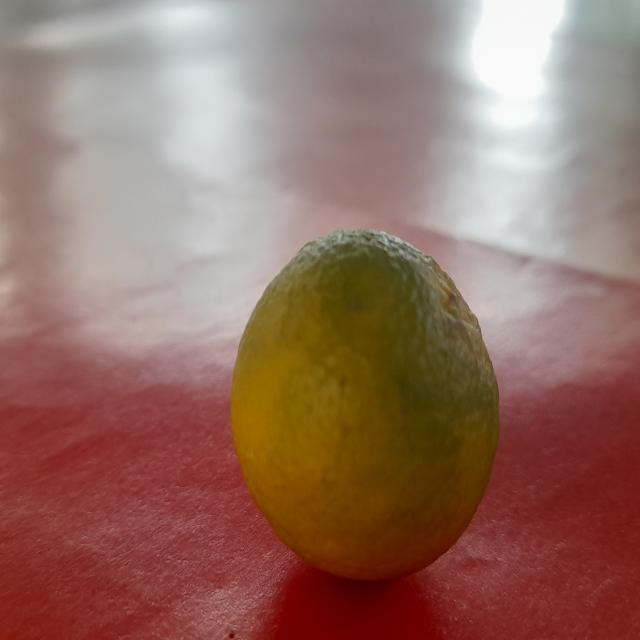greening: (233, 232, 492, 570)
